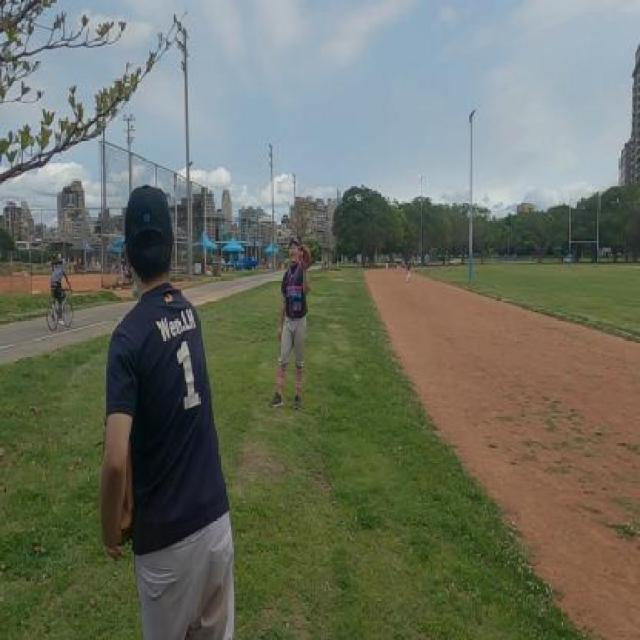baseball: (300, 250, 305, 258)
